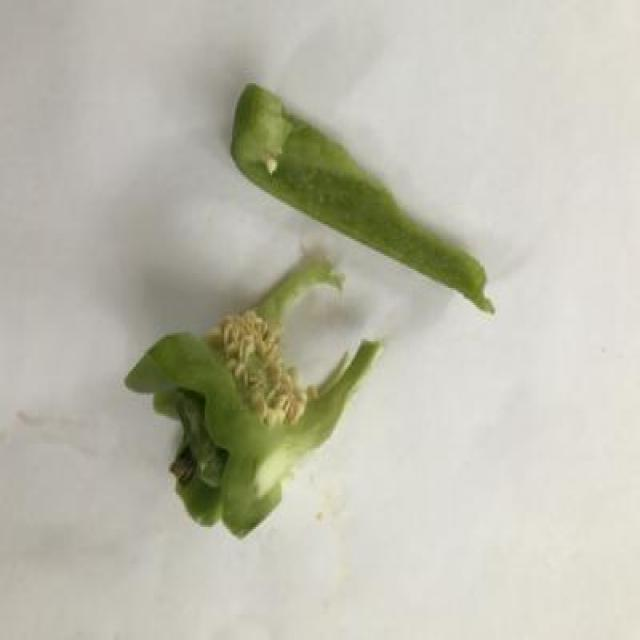compost: (125, 73, 498, 542)
